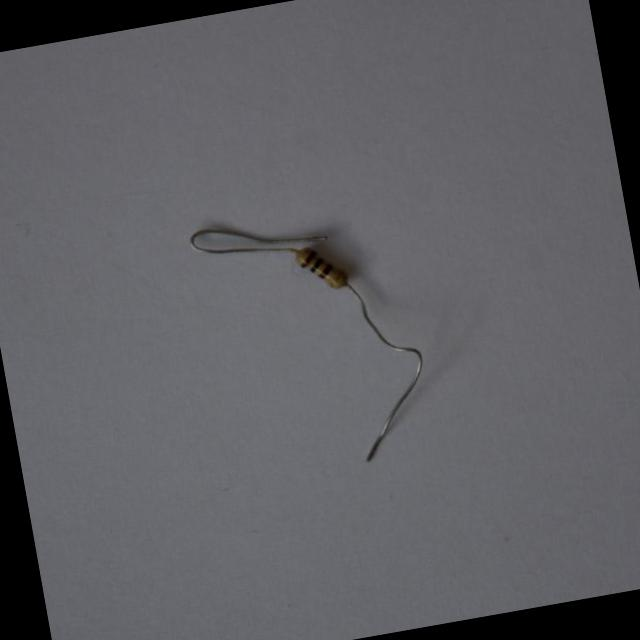Resistor: (295, 248, 345, 287)
black: (311, 260, 323, 273)
brown: (302, 252, 317, 268), (319, 265, 332, 279)
gold: (331, 273, 342, 287)
